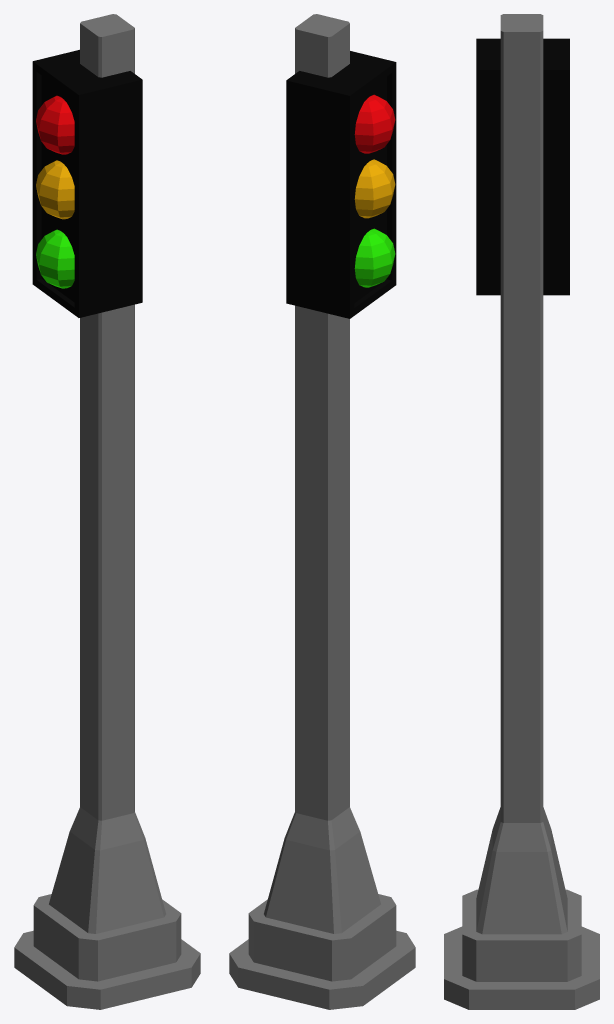
File: traffic light single 1.fbx
The picture shows the model from 3 angles, left to right: view 1: azimuth 30°, elevation 25°; view 2: azimuth 150°, elevation 25°; view 3: azimuth 270°, elevation 25°; orthographic projection.
Parts seen in each view (by area): view 1: Cube.001; view 2: Cube.001; view 3: Cube.001.
Boxes of the visible parts, x1=… form: Cube.001: x1=14, y1=14, x2=200, y2=1009; Cube.001: x1=229, y1=14, x2=415, y2=1009; Cube.001: x1=444, y1=14, x2=599, y2=1009.
Bounding box in the file's own units: 203 × 1350 × 200.
